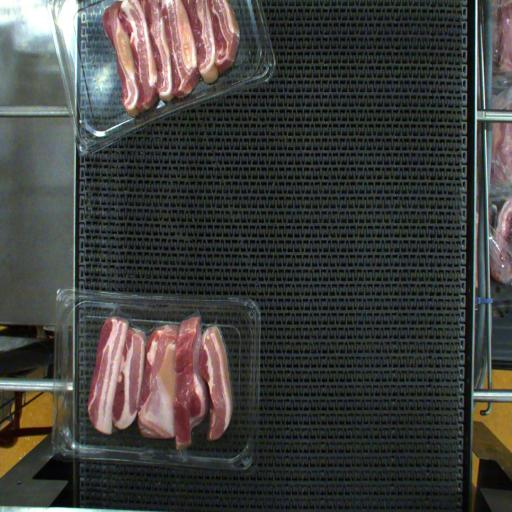twisted-meat: (174, 326, 206, 432)
unsealed: (94, 307, 232, 362)
